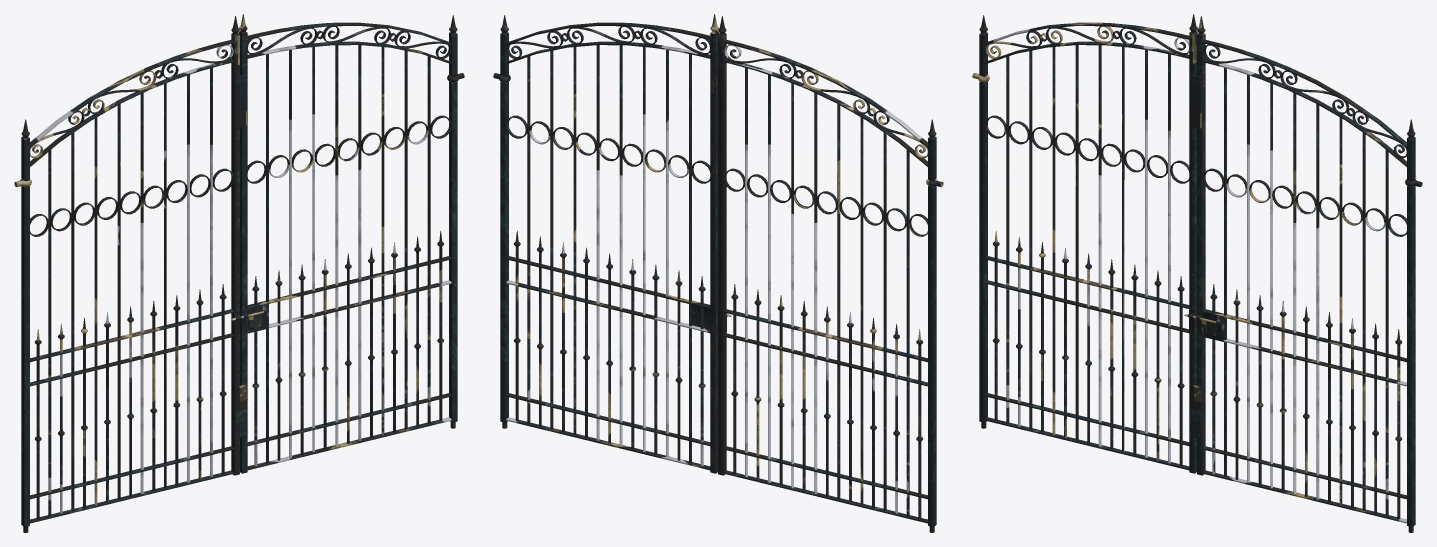
File: large_iron_gate.obj
3 views of the same model, side by side, from view 1: azimuth 30°, elevation 25°; view 2: azimuth 150°, elevation 25°; view 3: azimuth 330°, elevation 25° (orthographic).
Visible parts, largest first — view 1: large_iron_gate_right_door, large_iron_gate_left_door; view 2: large_iron_gate_left_door, large_iron_gate_right_door; view 3: large_iron_gate_right_door, large_iron_gate_left_door.
Boxes of the visible parts, <box> form: large_iron_gate_right_door: <box>235,14,457,473</box>; large_iron_gate_left_door: <box>21,16,241,532</box>; large_iron_gate_left_door: <box>718,16,936,532</box>; large_iron_gate_right_door: <box>500,14,718,473</box>; large_iron_gate_right_door: <box>1190,16,1415,532</box>; large_iron_gate_left_door: <box>979,14,1197,473</box>.
Bounding box in the file's own units: 2.95 × 2.93 × 0.0973.
